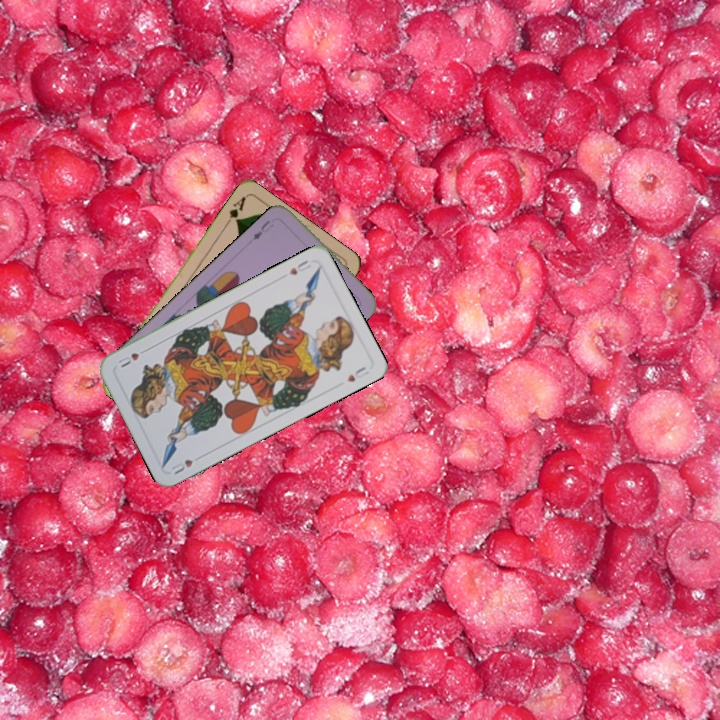EU: (249, 216, 274, 243)
GA: (221, 192, 248, 229)
HU: (285, 256, 315, 278), (167, 455, 196, 477)
